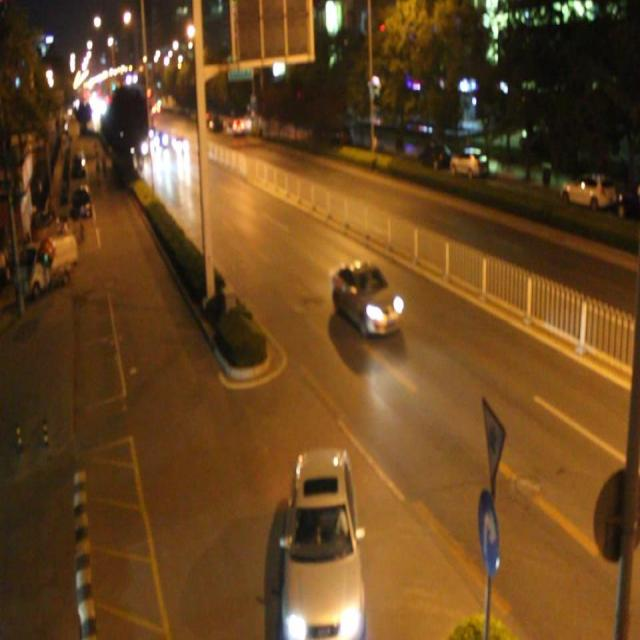car: (277, 445, 365, 640), (329, 255, 402, 338), (172, 134, 190, 154), (153, 130, 169, 150), (233, 115, 245, 134)
